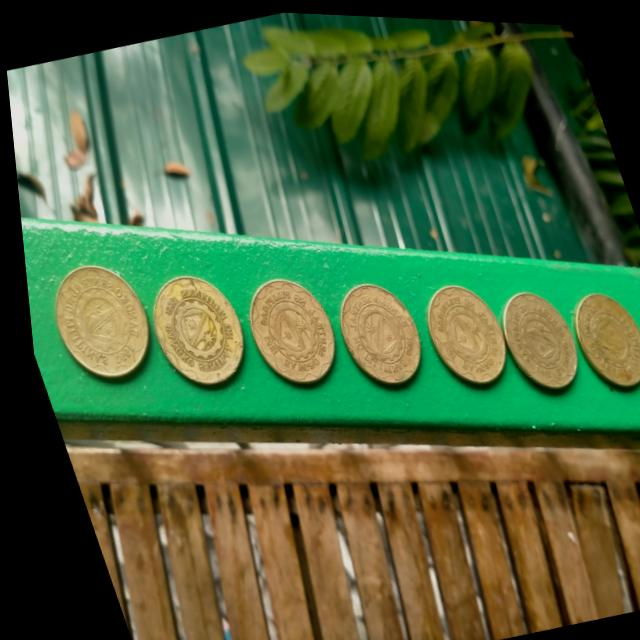5_Old_Back: (138, 273, 244, 384), (239, 276, 336, 386), (494, 285, 573, 386)
